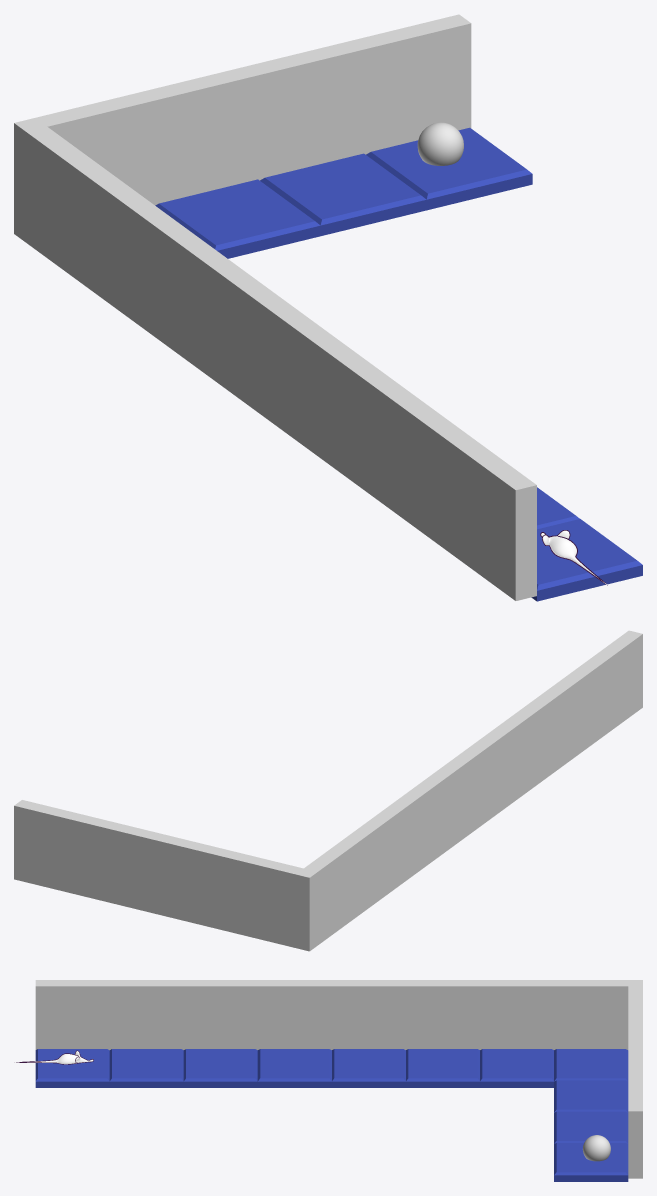
File: temp-assets.gltf
3 renders of one model, top to bottom at view 1: azimuth 30°, elevation 25°; view 2: azimuth 150°, elevation 25°; view 3: azimuth 270°, elevation 25°, orthographic. The views are drawn at different scales.
Parts seen in each view (by area): view 1: wall1, wall2, tile10, tile9, tile11, tile1, food, tile2, rat; view 2: wall1, wall2; view 3: wall1, wall2, tile2, tile3, tile4, tile5, tile6, tile7, tile1, tile11, tile8, tile9 (+3 smaller).
Part boxes in pixels (left/top/right/bottom): wall1: left=26, top=127, right=536, bottom=600; wall2: left=14, top=14, right=471, bottom=242; tile10: left=260, top=153, right=426, bottom=235; tile9: left=155, top=179, right=320, bottom=258; tile11: left=366, top=127, right=532, bottom=210; tile1: left=531, top=519, right=642, bottom=601; food: left=417, top=122, right=463, bottom=165; tile2: left=537, top=487, right=579, bottom=529; rat: left=540, top=530, right=607, bottom=585; wall1: left=304, top=630, right=642, bottom=945; wall2: left=14, top=800, right=317, bottom=951; wall1: left=35, top=980, right=628, bottom=1050; wall2: left=628, top=980, right=642, bottom=1178; tile2: left=109, top=1049, right=183, bottom=1087; tile3: left=183, top=1049, right=257, bottom=1087; tile4: left=257, top=1049, right=331, bottom=1087; tile5: left=332, top=1049, right=405, bottom=1087; tile6: left=406, top=1049, right=479, bottom=1087; tile7: left=480, top=1049, right=553, bottom=1087; tile1: left=35, top=1049, right=109, bottom=1087; tile11: left=554, top=1143, right=628, bottom=1181; tile8: left=554, top=1049, right=628, bottom=1081; tile9: left=554, top=1080, right=628, bottom=1112.
Size of the model in its own units: 4.2 by 1.05 by 8.49.
